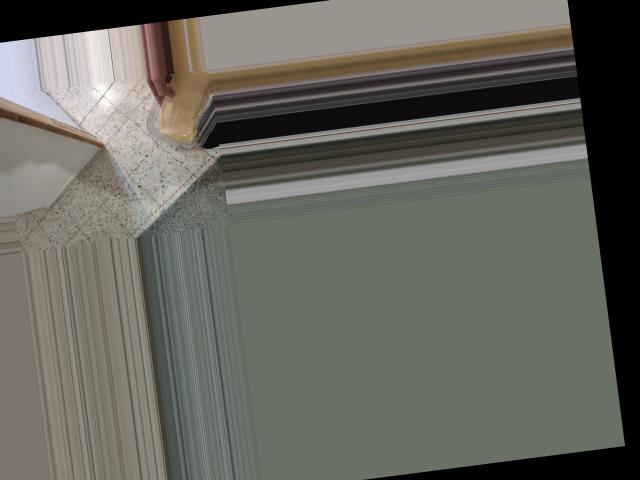cheese: (141, 67, 220, 153)
